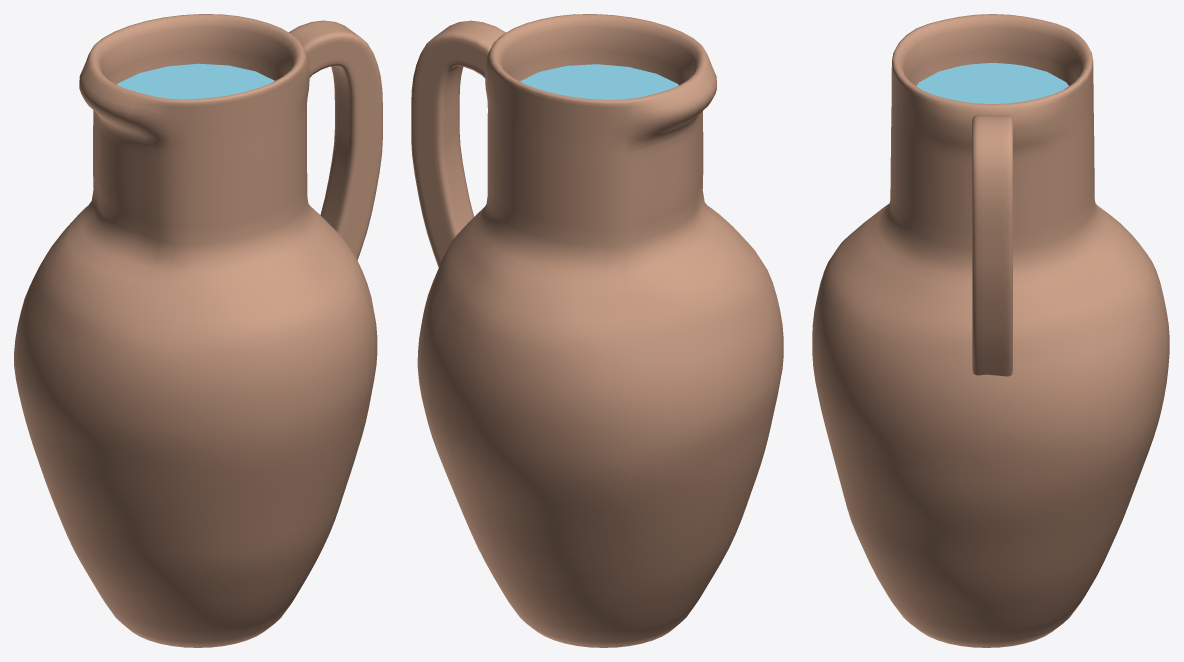
File: 365abc18-2c58-4c96-9d94-ac9299120be9.glb
3 views of the same model, side by side, from view 1: azimuth 30°, elevation 25°; view 2: azimuth 150°, elevation 25°; view 3: azimuth 270°, elevation 25° (orthographic).
Visible parts, largest first — view 1: Cylinder002; view 2: Cylinder002; view 3: Cylinder002.
Boxes of the visible parts, x1,y1,x2,y2 form: Cylinder002: (14,14,382,647); Cylinder002: (411,14,783,647); Cylinder002: (812,14,1169,647).
Bounding box in the file's own units: 21.79 × 34.82 × 19.99.
